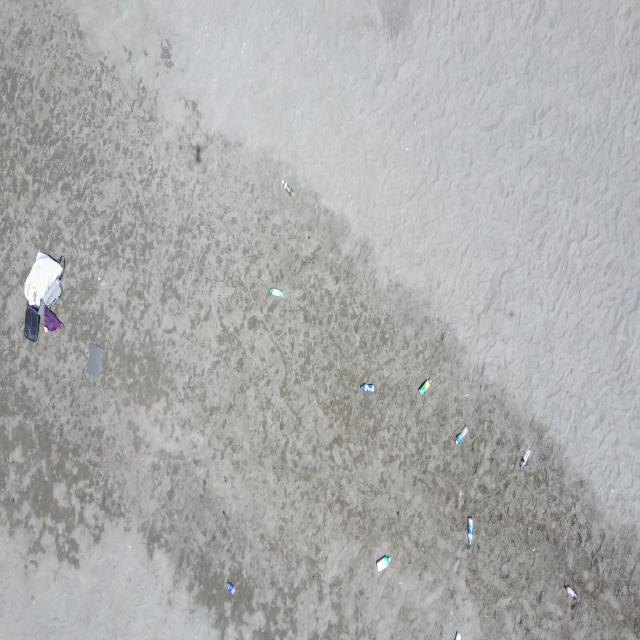Garbage: (24, 252, 63, 340), (24, 251, 62, 306), (24, 304, 39, 342), (40, 279, 60, 307), (44, 306, 63, 332), (87, 344, 101, 377), (375, 555, 390, 572), (452, 426, 467, 443), (417, 377, 430, 395), (281, 179, 292, 198), (564, 584, 576, 600), (519, 448, 529, 467), (467, 515, 472, 544), (267, 287, 283, 296), (224, 580, 235, 592), (360, 383, 373, 391), (195, 143, 200, 161), (453, 631, 460, 639)
